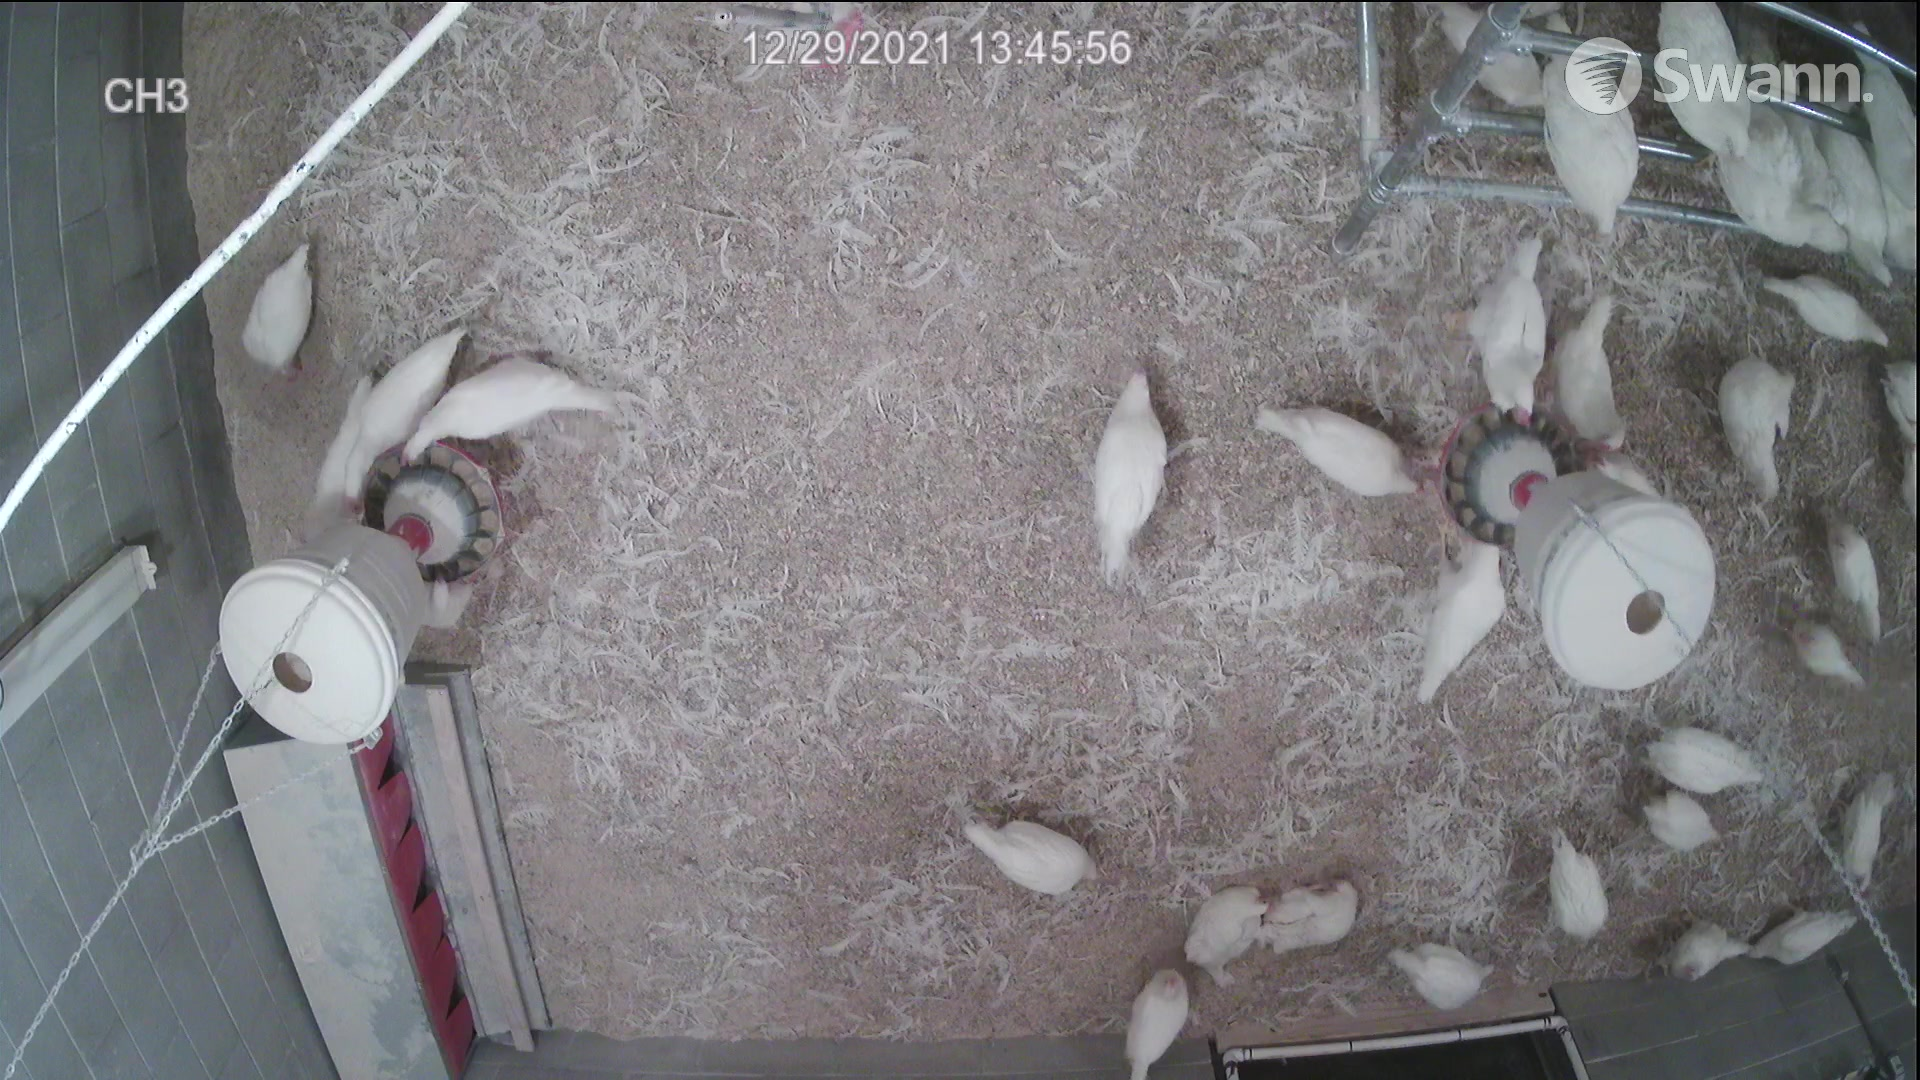Dust Bathing: (1269, 865, 1364, 971), (1193, 869, 1255, 981)
Feeding: (327, 320, 455, 512), (393, 345, 617, 454), (1461, 223, 1567, 436), (1539, 284, 1622, 455)
Foraging: (1245, 393, 1437, 506), (967, 795, 1106, 919), (225, 232, 338, 371), (1102, 372, 1174, 571), (1390, 934, 1506, 1011)
Perching: (1545, 29, 1636, 215), (1665, 0, 1763, 160), (1724, 102, 1807, 247), (1859, 26, 1909, 228), (1808, 105, 1876, 240)
Preening: (1726, 356, 1803, 512)
